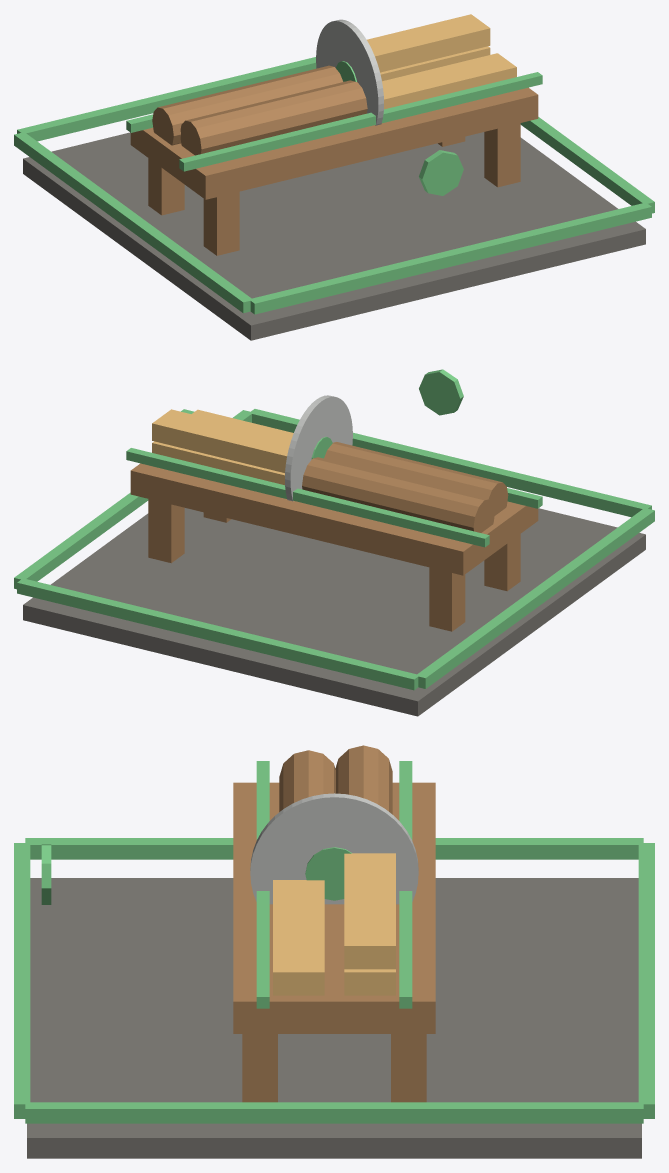
File: t3_sawmill.glb
The picture shows the model from 3 angles, top to bottom: view 1: azimuth 30°, elevation 25°; view 2: azimuth 150°, elevation 25°; view 3: azimuth 270°, elevation 25°; orthographic projection. The views are drawn at different scales.
Visible parts, largest first — view 1: FootprintBase, TableTop, TierFrontTrim, InputLogA, TierLeftTrim, LeftRail, InputLogB, TierBackTrim, OutputPlank.001, OutputPlank.002, SawBlade, TierRightTrim (+5 smaller); view 2: FootprintBase, TableTop, TierBackTrim, InputLogB, TierFrontTrim, TierLeftTrim, RightRail, OutputPlank.001, InputLogA, SawBlade, TierRightTrim, TableLeg.001 (+6 smaller); view 3: FootprintBase, TableTop, TierRightTrim, SawBlade, TierLeftTrim, OutputPlank.001, OutputPlank.002, TierBackTrim, TierFrontTrim, InputLogB, LeftRail, RightRail (+6 smaller).
Part boxes in pixels (box(x1,y1,x2,y2)): FootprintBase: box(23, 132, 645, 340); TableTop: box(130, 87, 538, 199); TierFrontTrim: box(249, 203, 651, 314); InputLogA: box(180, 80, 367, 155); TierLeftTrim: box(14, 132, 251, 313); LeftRail: box(179, 72, 542, 171); InputLogB: box(152, 65, 343, 145); TierBackTrim: box(17, 57, 316, 141); OutputPlank.001: box(367, 14, 490, 72); OutputPlank.002: box(382, 53, 516, 109); SawBlade: box(316, 19, 383, 125); TierRightTrim: box(520, 117, 654, 213); FootprintBase: box(23, 508, 645, 716); TableTop: box(130, 463, 538, 575); TierBackTrim: box(17, 579, 419, 690); InputLogB: box(302, 457, 494, 532); TierFrontTrim: box(249, 409, 651, 517); TierLeftTrim: box(415, 508, 654, 688); RightRail: box(126, 448, 489, 547); OutputPlank.001: box(152, 409, 291, 472); InputLogA: box(324, 442, 508, 515); SawBlade: box(285, 395, 352, 501); TierRightTrim: box(14, 410, 251, 589); TableLeg.001: box(429, 567, 465, 631); FootprintBase: box(27, 878, 641, 1158); TableTop: box(233, 782, 435, 1033); TierRightTrim: box(25, 1102, 643, 1123); SawBlade: box(250, 793, 418, 904); TierLeftTrim: box(25, 838, 643, 859); OutputPlank.001: box(344, 853, 395, 969); OutputPlank.002: box(273, 880, 324, 995); TierBackTrim: box(638, 843, 654, 1118); TierFrontTrim: box(14, 843, 30, 1118); InputLogB: box(335, 745, 392, 814); LeftRail: box(256, 761, 269, 1008); RightRail: box(399, 761, 412, 1008).
Size of the model in its own units: 3.96 by 1.66 by 3.96.
